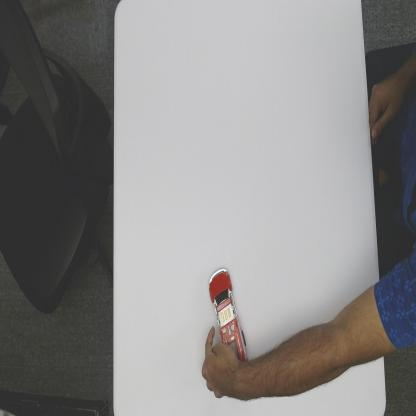Arm: (271, 296, 403, 396)
Firetruck: (208, 265, 247, 371)
Hand: (199, 331, 261, 403)
